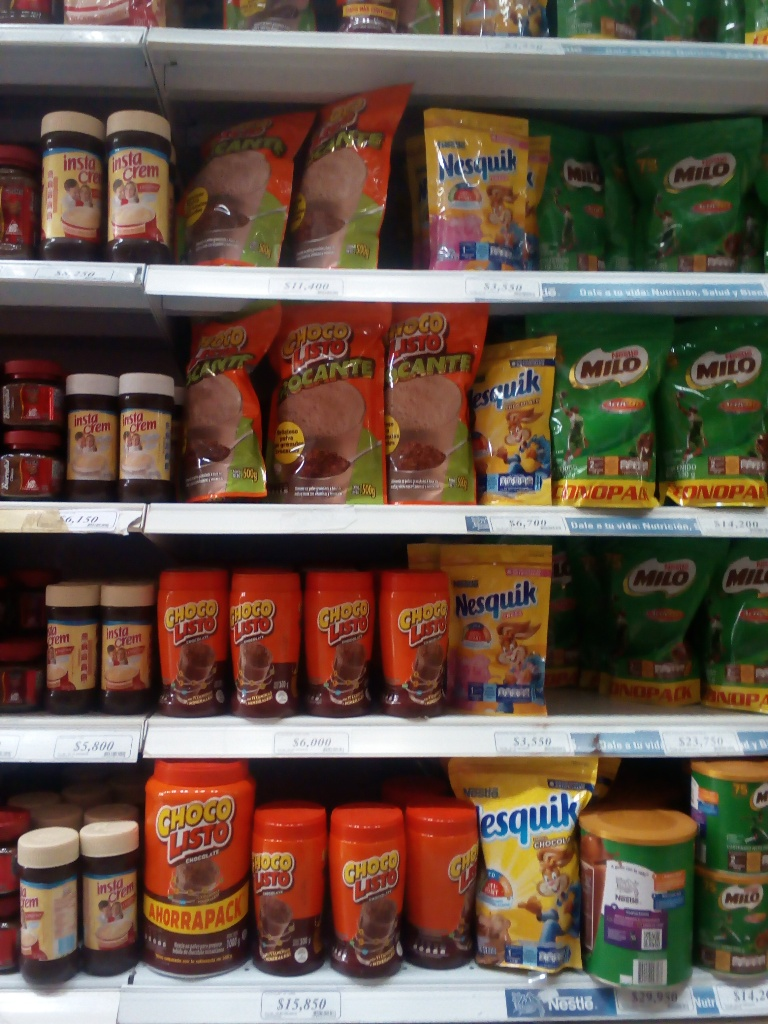COL0170102DYP50000: (180, 299, 278, 502)
COL0170103TRR00100: (134, 760, 257, 985)
COL0170103TRR30000: (150, 559, 231, 722)
COL0170203DYP50000: (632, 303, 765, 509)
COL0170203LAT40000: (692, 758, 768, 870)
COL0170303DYP20000: (463, 330, 555, 506)
COL0170305DYP20000: (424, 547, 567, 716)
